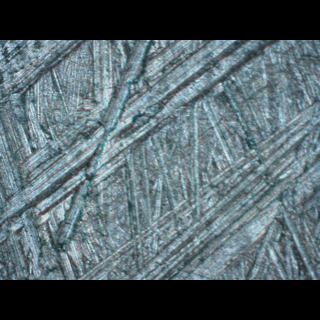d: (0, 40, 295, 223), (80, 96, 319, 280), (0, 40, 87, 110)
